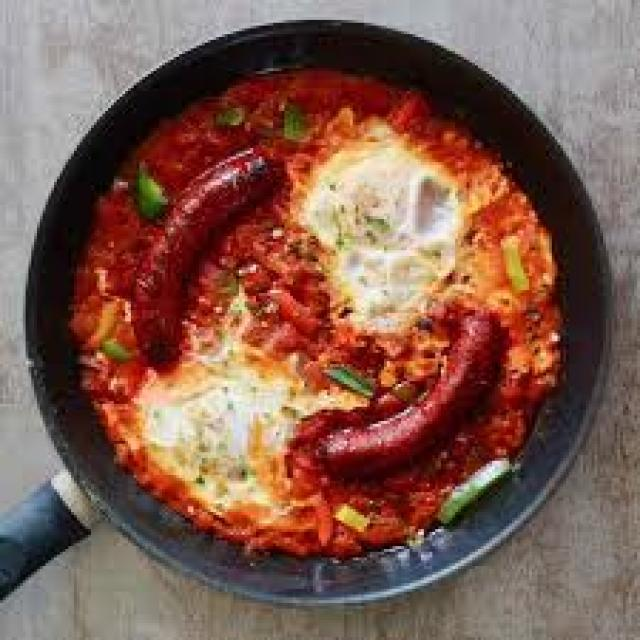Chakchouka: (29, 26, 575, 597)
